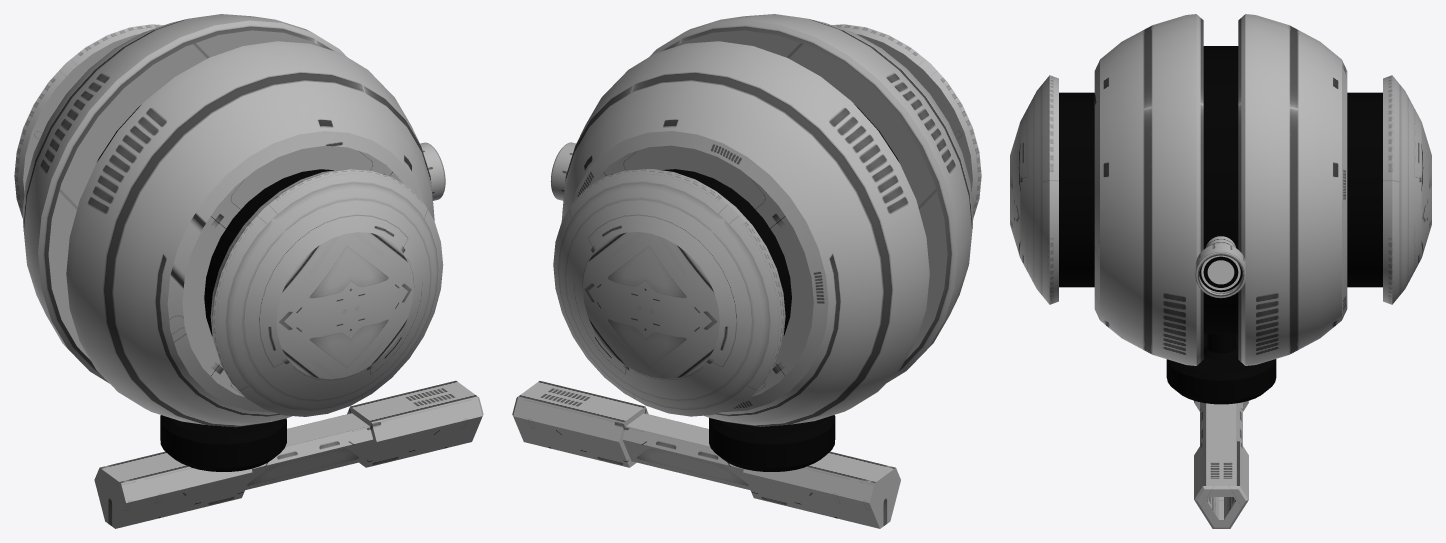
File: SingleDroid.fbx
3 views of the same model, side by side, from view 1: azimuth 30°, elevation 25°; view 2: azimuth 150°, elevation 25°; view 3: azimuth 270°, elevation 25° (orthographic). The views are drawn at different scales.
Parts seen in each view (by area): view 1: Bot-2.003, Bot-2.001; view 2: Bot-2.003, Bot-2.001; view 3: Bot-2.003, Bot-2.001.
Boxes of the visible parts, bbox=[...] form: Bot-2.003: bbox=[14, 14, 445, 427]; Bot-2.001: bbox=[94, 380, 483, 528]; Bot-2.003: bbox=[550, 14, 981, 426]; Bot-2.001: bbox=[512, 381, 900, 528]; Bot-2.003: bbox=[1010, 14, 1431, 365]; Bot-2.001: bbox=[1166, 334, 1276, 528].
Size of the model in its own units: 657 by 693 by 665.
